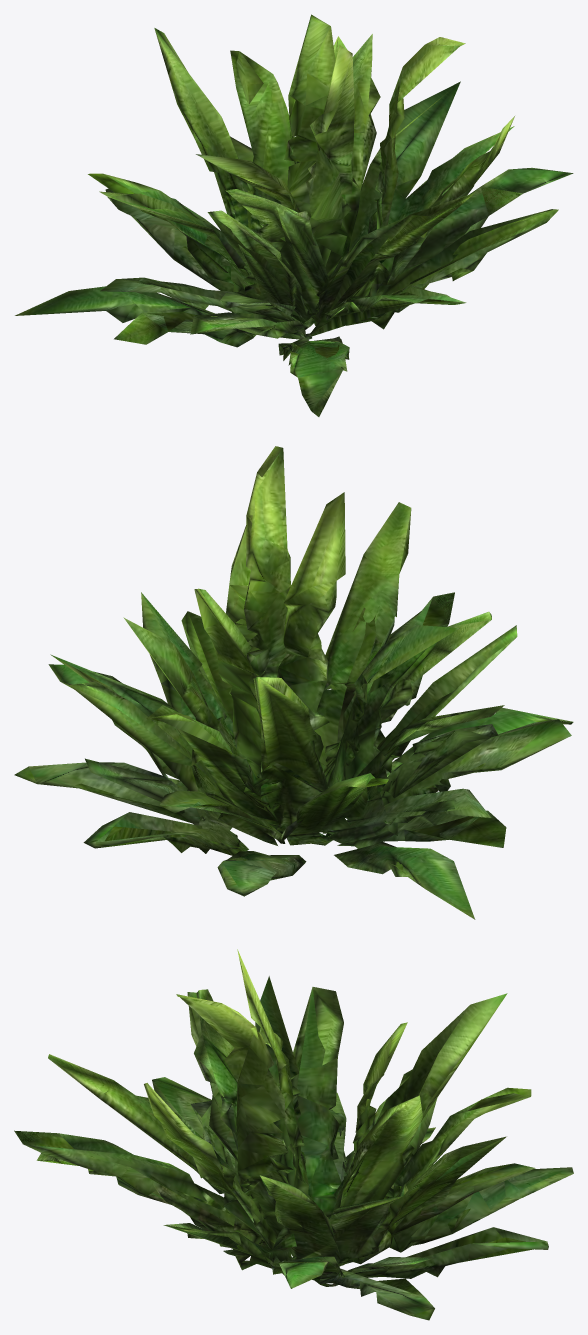
File: Fern-0.glb
The picture shows the model from 3 angles, top to bottom: view 1: azimuth 30°, elevation 25°; view 2: azimuth 150°, elevation 25°; view 3: azimuth 270°, elevation 25°; orthographic projection. The views are drawn at different scales.
Parts seen in each view (by area): view 1: bright_radial_fern.001; view 2: bright_radial_fern.001; view 3: bright_radial_fern.001.
Boxes of the visible parts, box(x1,y1,x2,y2) form: bright_radial_fern.001: box(15, 14, 573, 416); bright_radial_fern.001: box(14, 446, 573, 919); bright_radial_fern.001: box(14, 949, 573, 1320).
Bounding box in the file's own units: 0.4805 × 0.2943 × 0.4763.
Materials: 1 (1 with a texture image).
